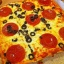olives: (15, 23, 33, 42), (40, 17, 50, 31), (25, 53, 36, 60), (8, 26, 16, 35), (59, 40, 64, 52), (30, 16, 39, 22)
pepperoni: (3, 45, 30, 62), (35, 32, 58, 48), (3, 24, 20, 39), (21, 1, 36, 14), (42, 9, 58, 21), (27, 13, 39, 25)
pizza: (1, 4, 64, 60)
